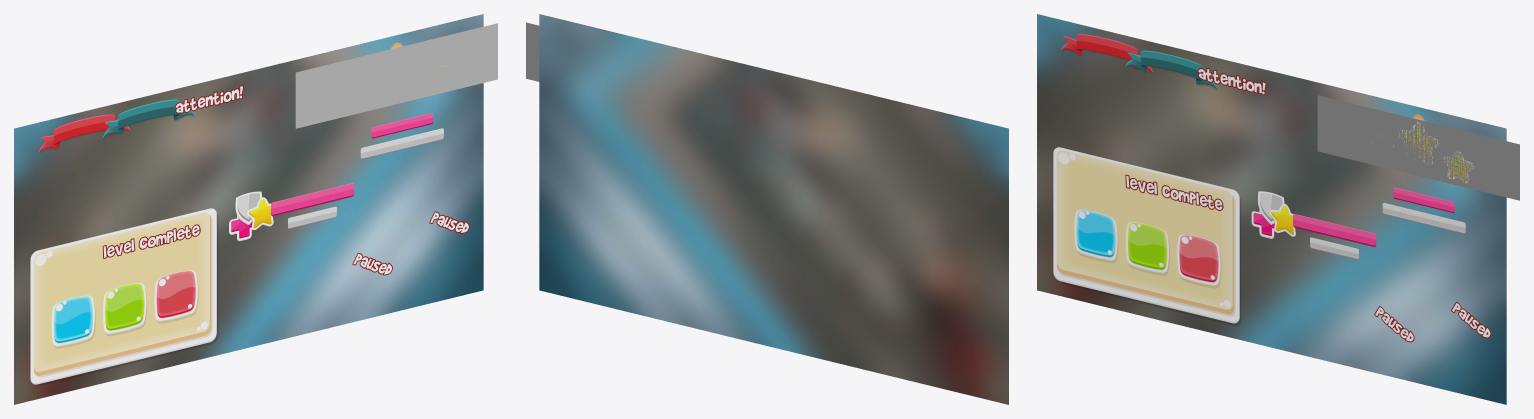
Rendered from test_scene_anims.gltf.
The picture shows the model from 3 angles, left to right: view 1: azimuth 30°, elevation 25°; view 2: azimuth 150°, elevation 25°; view 3: azimuth 330°, elevation 25°; orthographic projection.
Visible parts, largest first — view 1: bg, wnd_ui1, #pff:mask, wnd_ui2_bt, jelem2, lin2, jelem1, wnd_ui1.001, lin1.001, alpha_blink_test, lin2.001, lin1 (+4 smaller); view 2: bg, #pff:mask; view 3: bg, wnd_ui1, #pff:mask, wnd_ui2_bt, jelem2, lin2, jelem1, wnd_ui1.001, lin1.001, alpha_blink_test, lin2.001, clip_fg (+5 smaller).
Boxes of the visible parts, x1,y1,x2,y2 form: bg: [14, 14, 483, 404]; wnd_ui1: [30, 208, 216, 384]; #pff:mask: [295, 23, 497, 128]; wnd_ui2_bt: [51, 270, 197, 346]; jelem2: [102, 99, 194, 138]; lin2: [271, 183, 353, 216]; jelem1: [38, 114, 130, 153]; wnd_ui1.001: [102, 224, 200, 258]; lin1.001: [360, 128, 443, 159]; alpha_blink_test: [174, 85, 243, 113]; lin2.001: [371, 113, 432, 138]; lin1: [288, 206, 336, 229]; bg: [539, 14, 1008, 404]; #pff:mask: [526, 22, 539, 81]; bg: [1037, 14, 1506, 404]; wnd_ui1: [1053, 147, 1239, 323]; #pff:mask: [1317, 95, 1519, 200]; wnd_ui2_bt: [1074, 209, 1220, 285]; jelem2: [1125, 50, 1217, 89]; lin2: [1293, 214, 1376, 246]; jelem1: [1061, 34, 1152, 73]; wnd_ui1.001: [1125, 174, 1223, 210]; lin1.001: [1382, 203, 1465, 233]; alpha_blink_test: [1197, 68, 1266, 95]; lin2.001: [1393, 187, 1454, 212]; clip_fg: [1373, 122, 1473, 183].
Bounding box in the file's own units: 19.76 × 10.8 × 0.0483.
19 materials, 19 textured.
